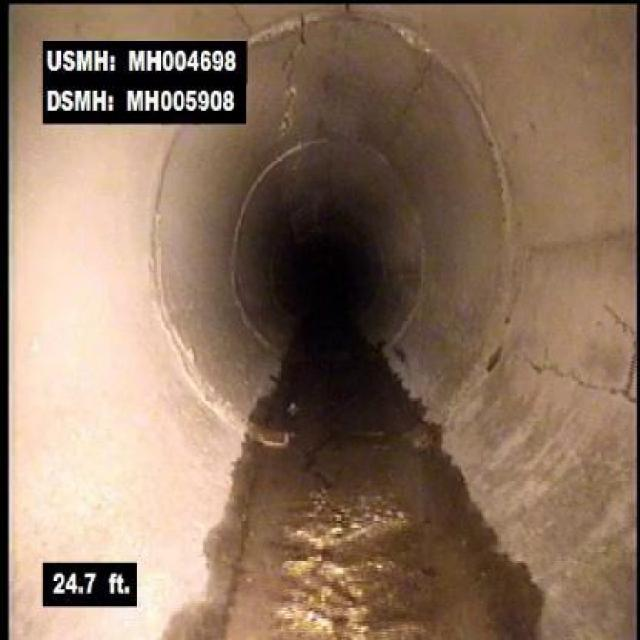Crack: (306, 503, 365, 639), (529, 358, 629, 400), (282, 21, 309, 117), (603, 298, 639, 338)
